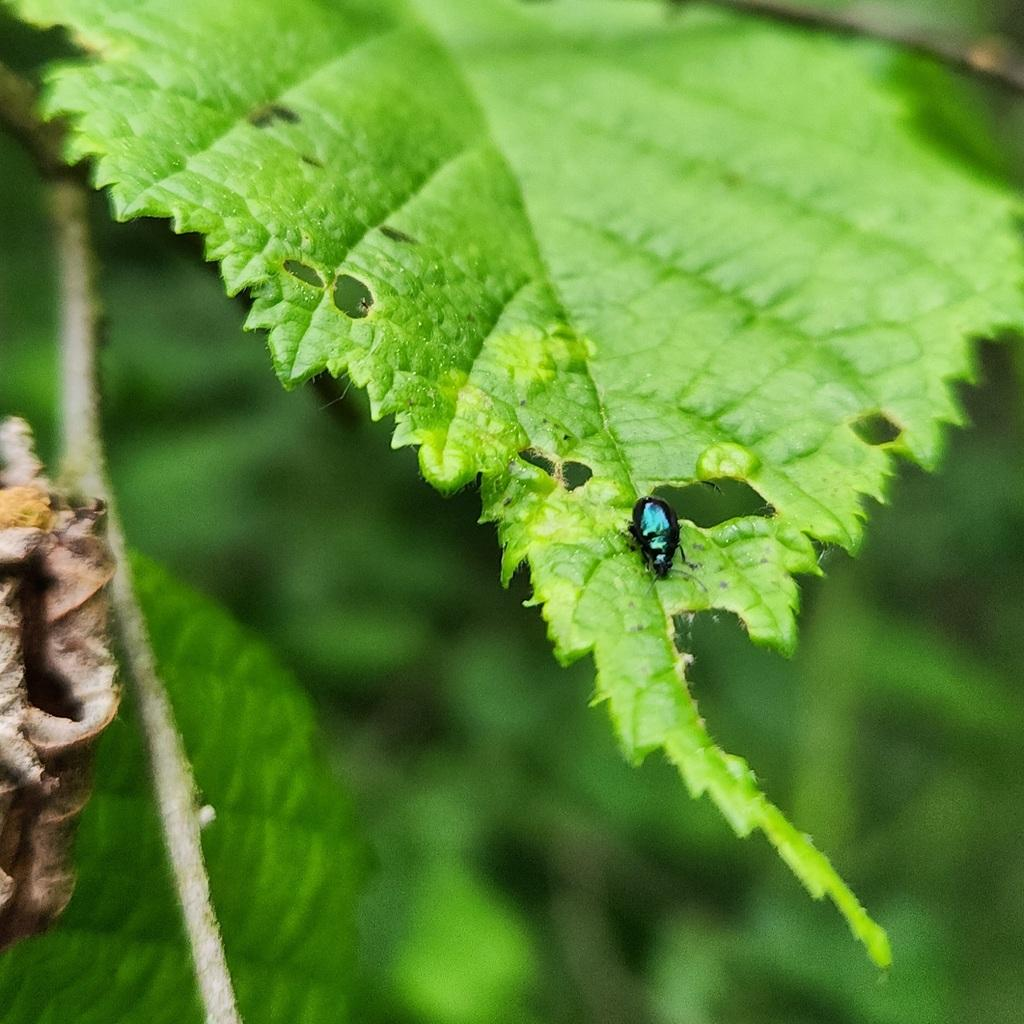flea_beetle: (611, 471, 700, 593)
